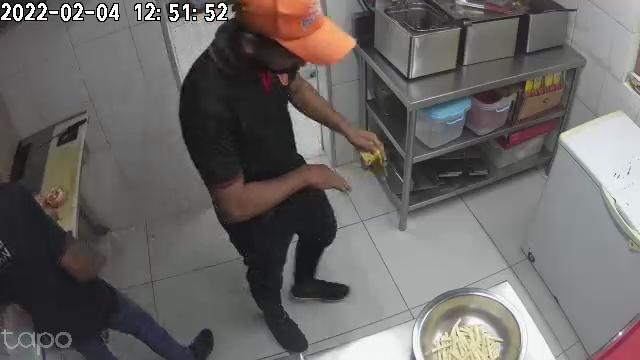no_gloves: (288, 163, 347, 192)
